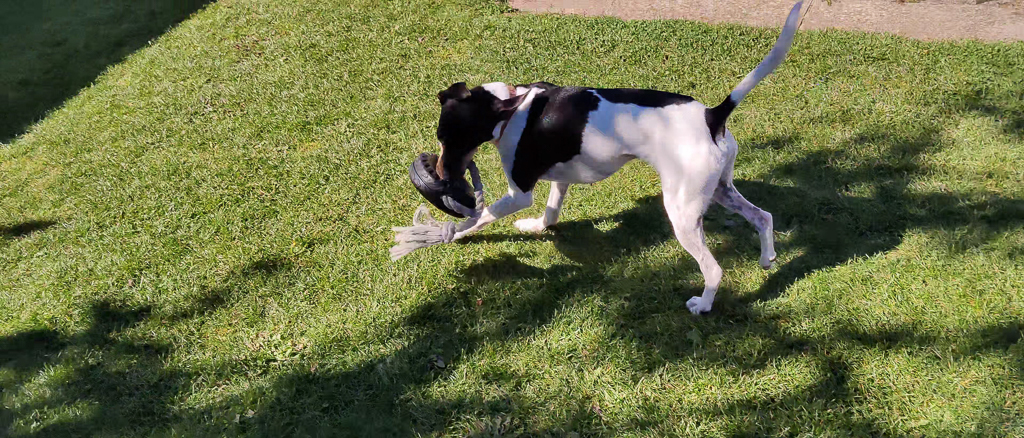Dog: (414, 0, 807, 326)
